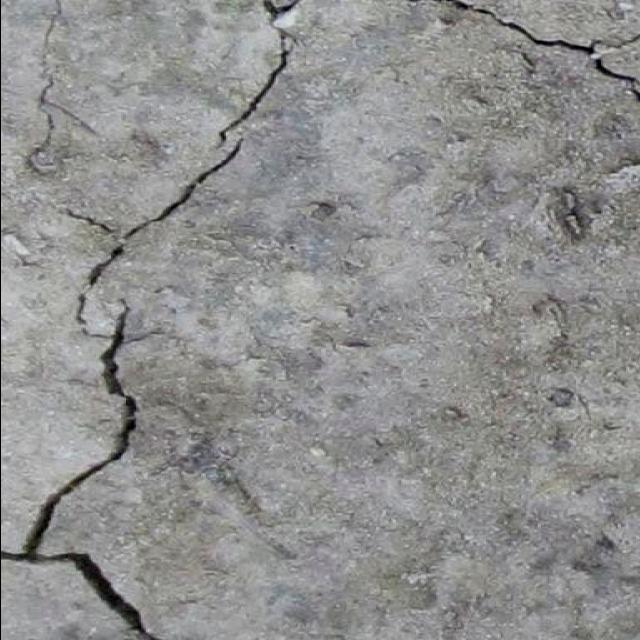crack: (0, 1, 305, 640), (436, 1, 640, 108)
